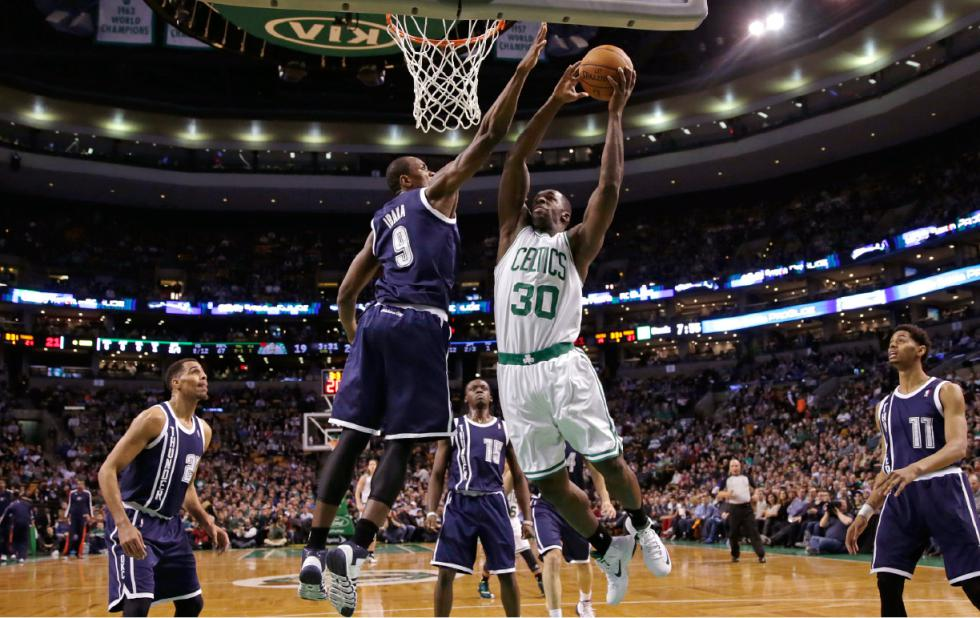ball: (581, 46, 630, 97)
player: (510, 171, 674, 590), (295, 159, 437, 596), (105, 365, 219, 616), (876, 336, 964, 610), (451, 382, 516, 618)
referee: (714, 462, 769, 564)
